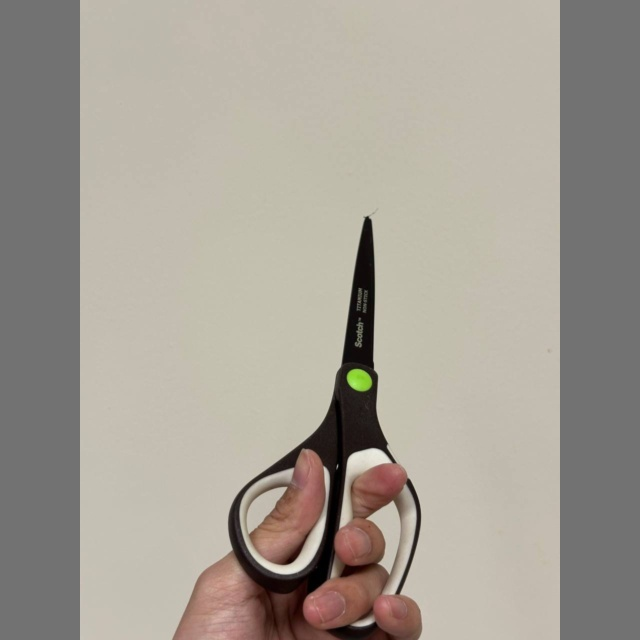scissor: (226, 211, 423, 627)
